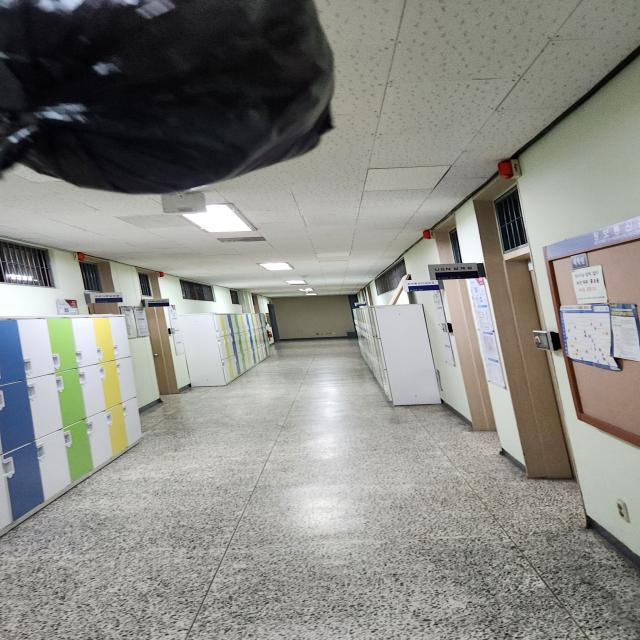black_bag: (0, 0, 338, 197)
